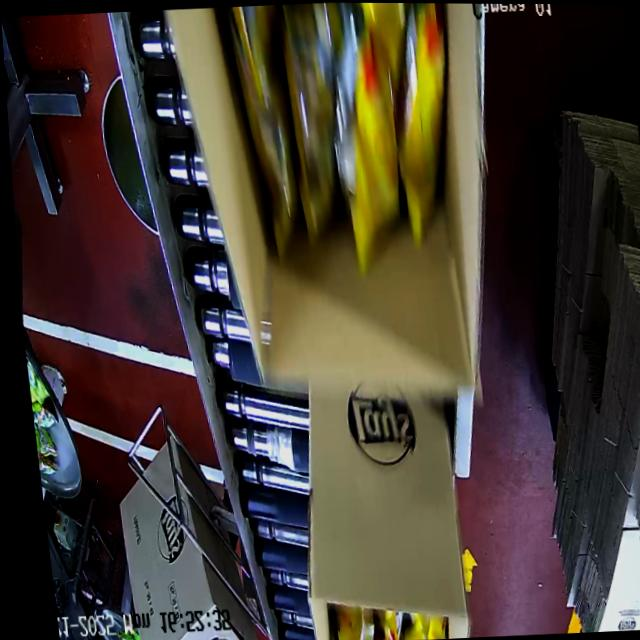SALTED: (221, 2, 481, 281), (326, 609, 450, 640)
